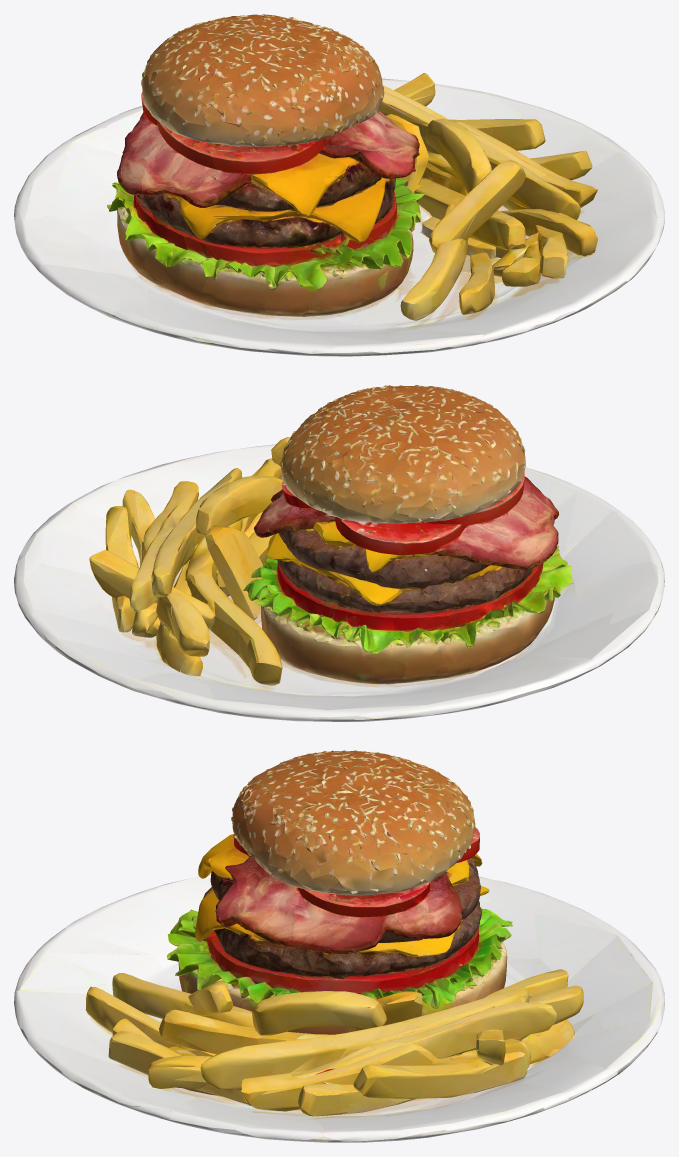
Rendered from burger.glb.
3 renders of one model, top to bottom at view 1: azimuth 30°, elevation 25°; view 2: azimuth 150°, elevation 25°; view 3: azimuth 270°, elevation 25°, orthographic.
Bounding box in the file's own units: 1.9 × 0.762 × 1.9.
1 material, 1 textured.
